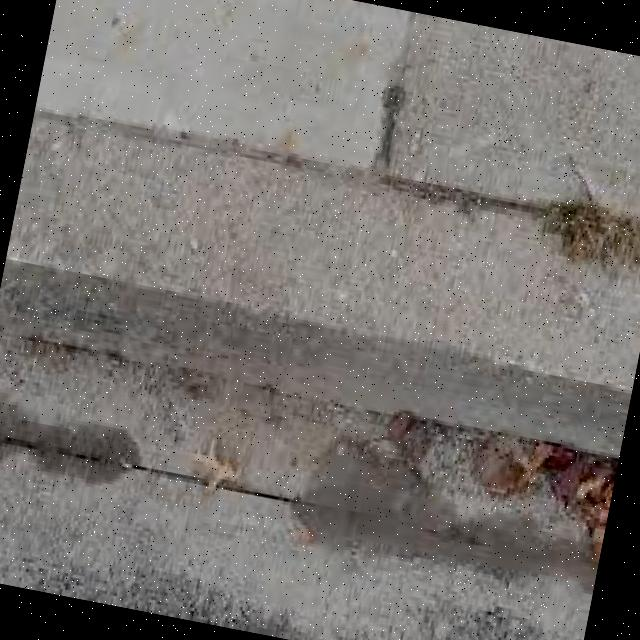curb: (1, 113, 640, 461)
